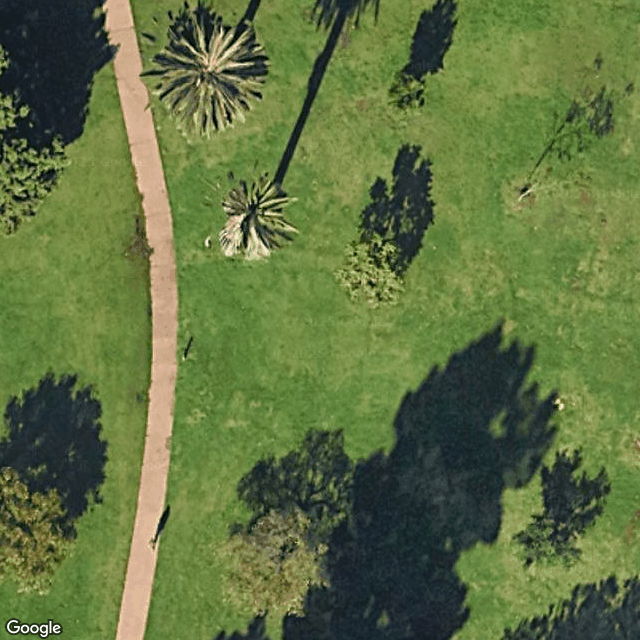palm: (126, 2, 282, 146), (194, 165, 318, 274)
